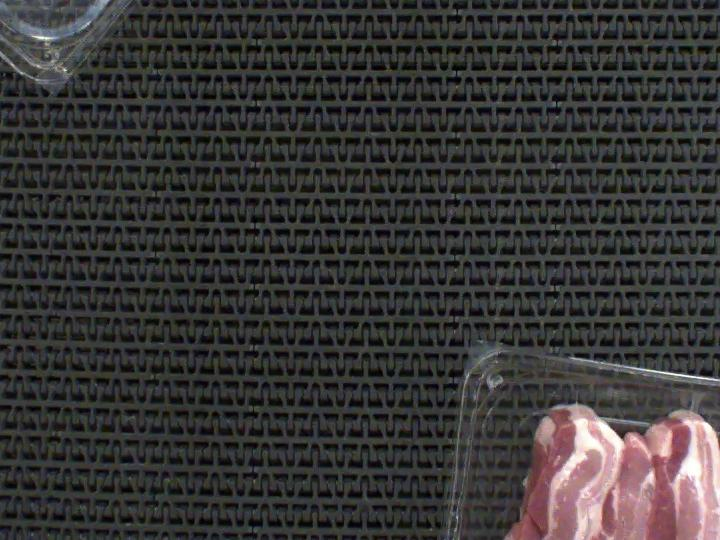packaging-error: (666, 379, 706, 421)
